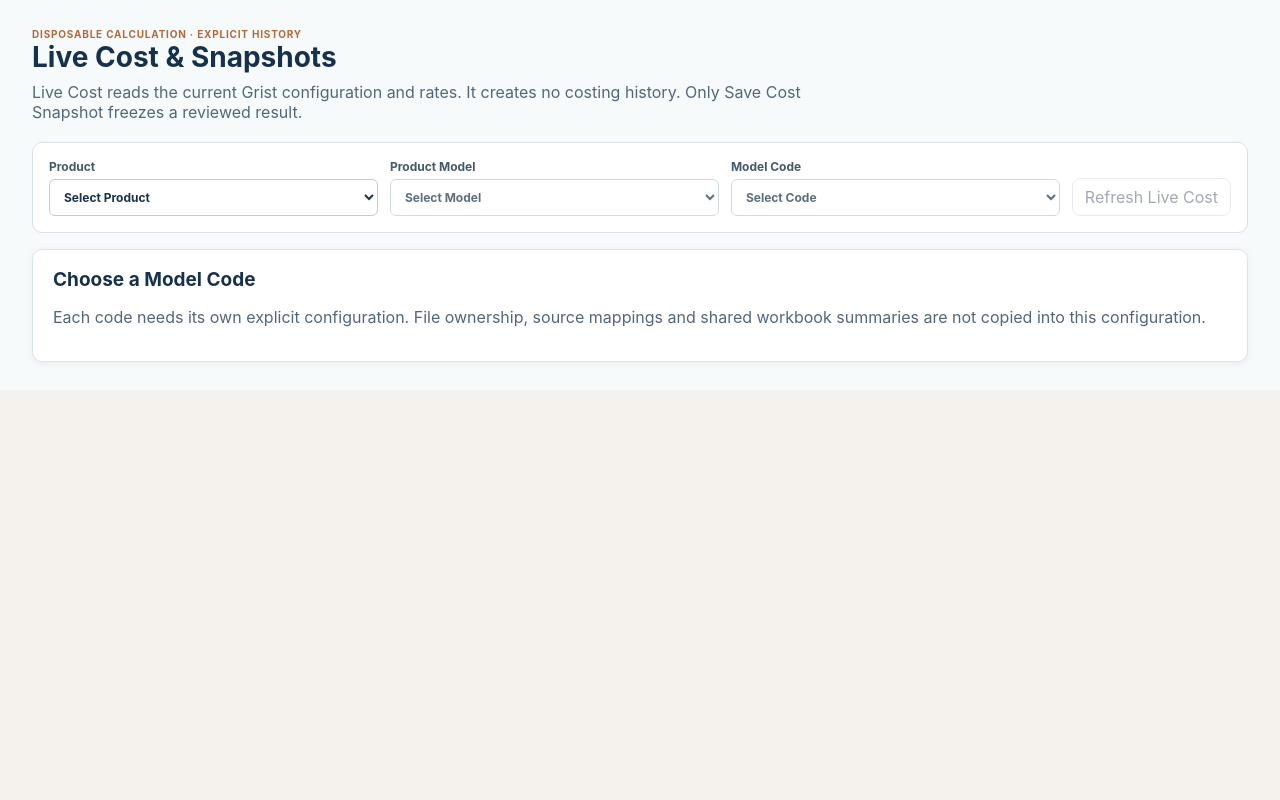
does not offer assembly rows returned with the Live Cost catalog
Select "Product" in the dropdown labelled "Product" at (213, 198), box 49,179 -> 378,216
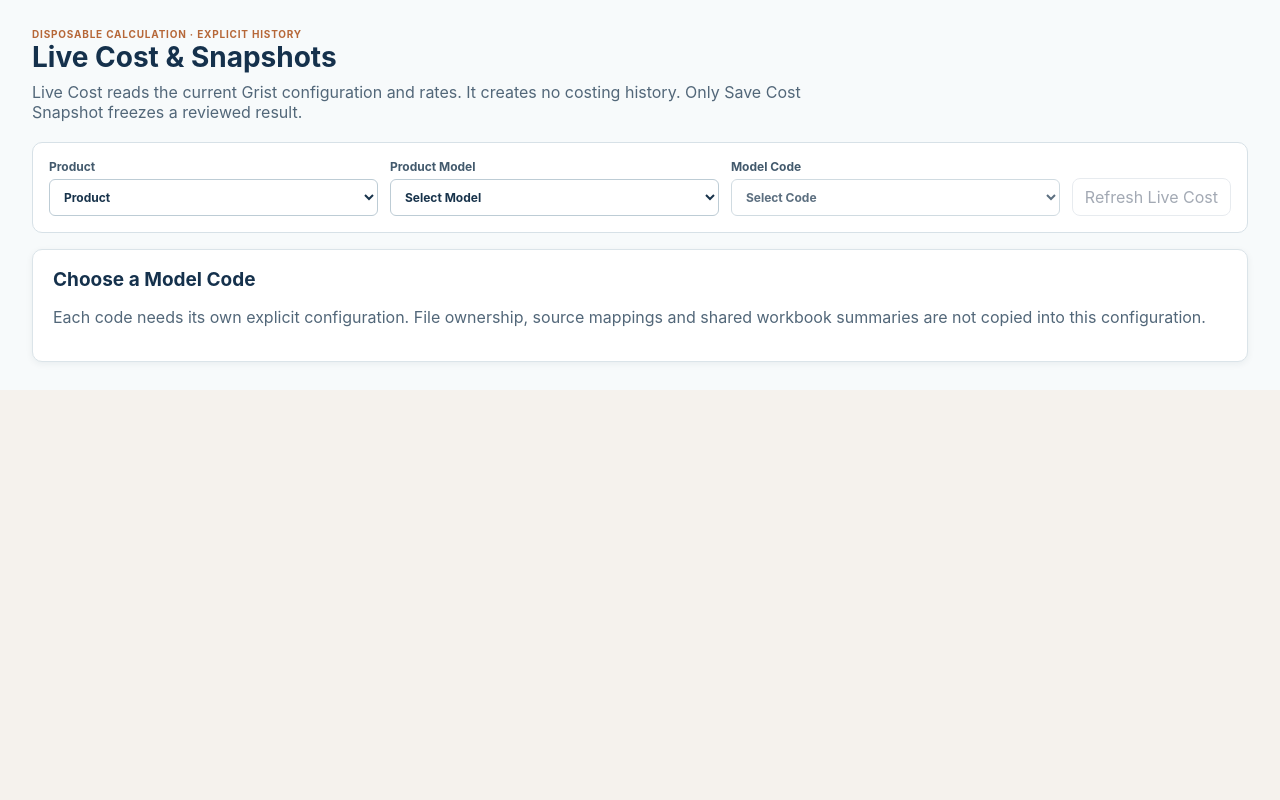
Select "MODEL Model" in the dropdown labelled "Product Model" at (554, 198), box 390,179 -> 719,216
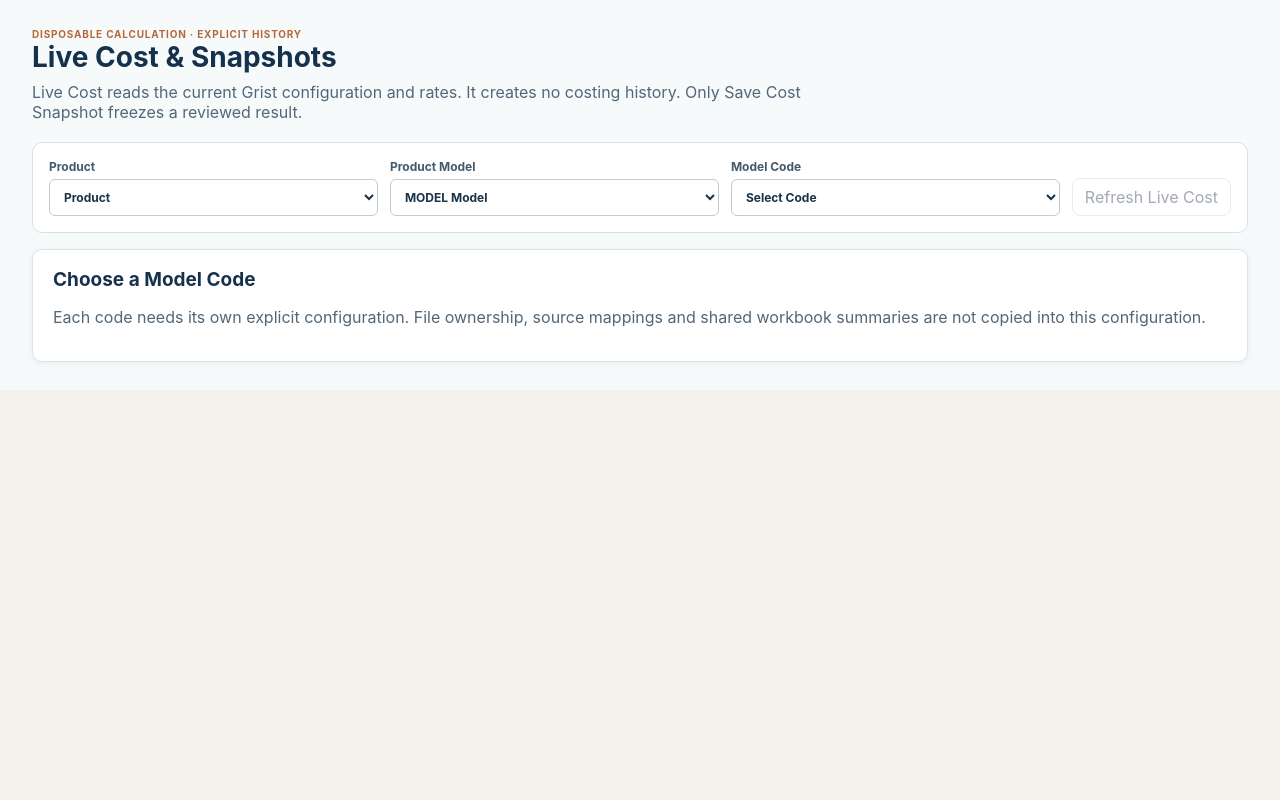
Select "CODE · Code" in the dropdown labelled "Model Code" at (895, 198), box 731,179 -> 1060,216
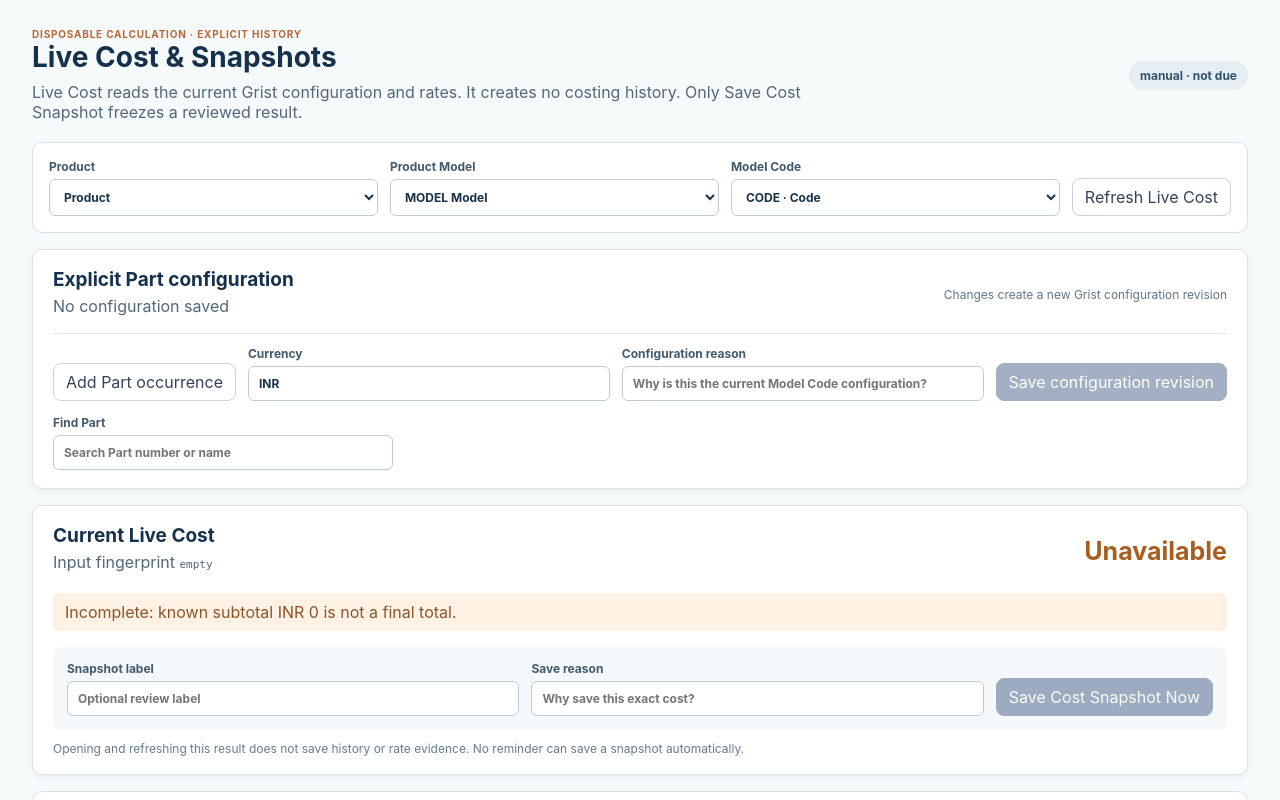
Expected: the text "No configuration saved" is shown, 53,296 -> 229,316
Click the button "Add Part occurrence".
click(144, 382)  # box 53,363 -> 236,401
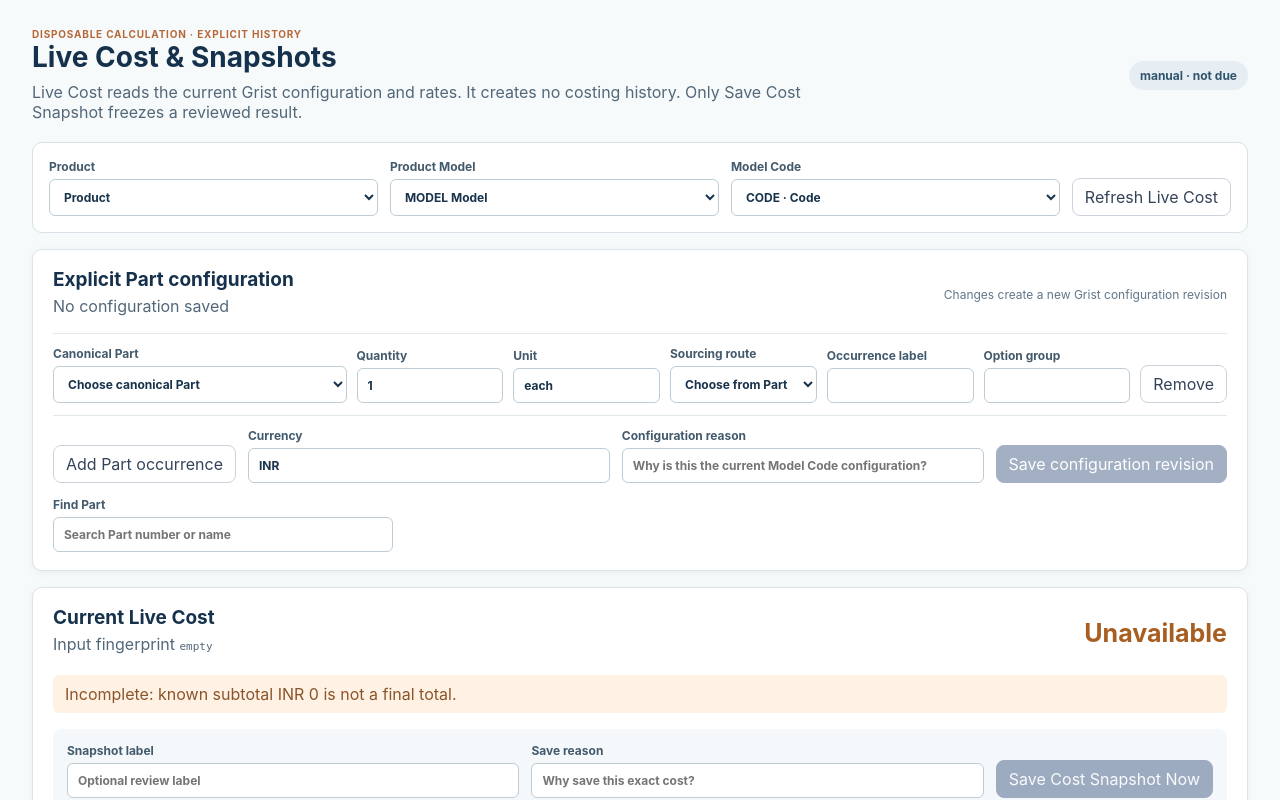
Expected: the dropdown labelled "Canonical Part" is shown, 53,366 -> 346,403
